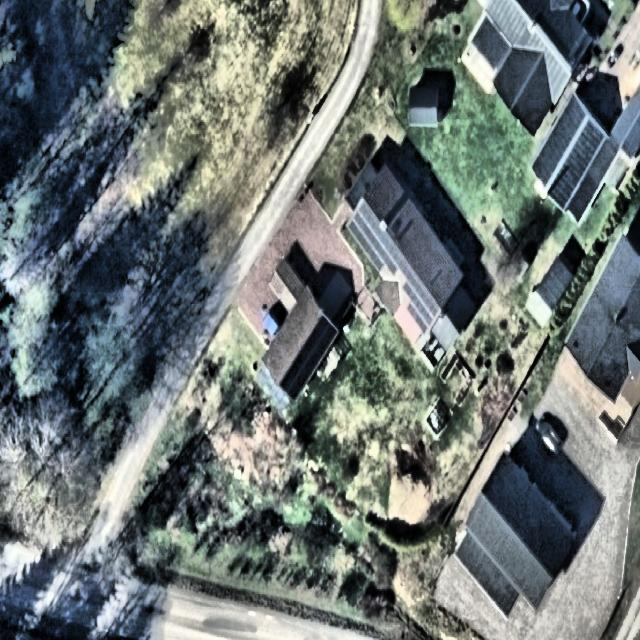roof_pv: (404, 272, 442, 334), (280, 334, 310, 402), (346, 201, 394, 242), (356, 241, 409, 273), (310, 314, 341, 367)
